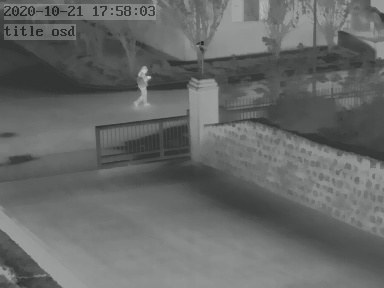person: (135, 64, 151, 105)
